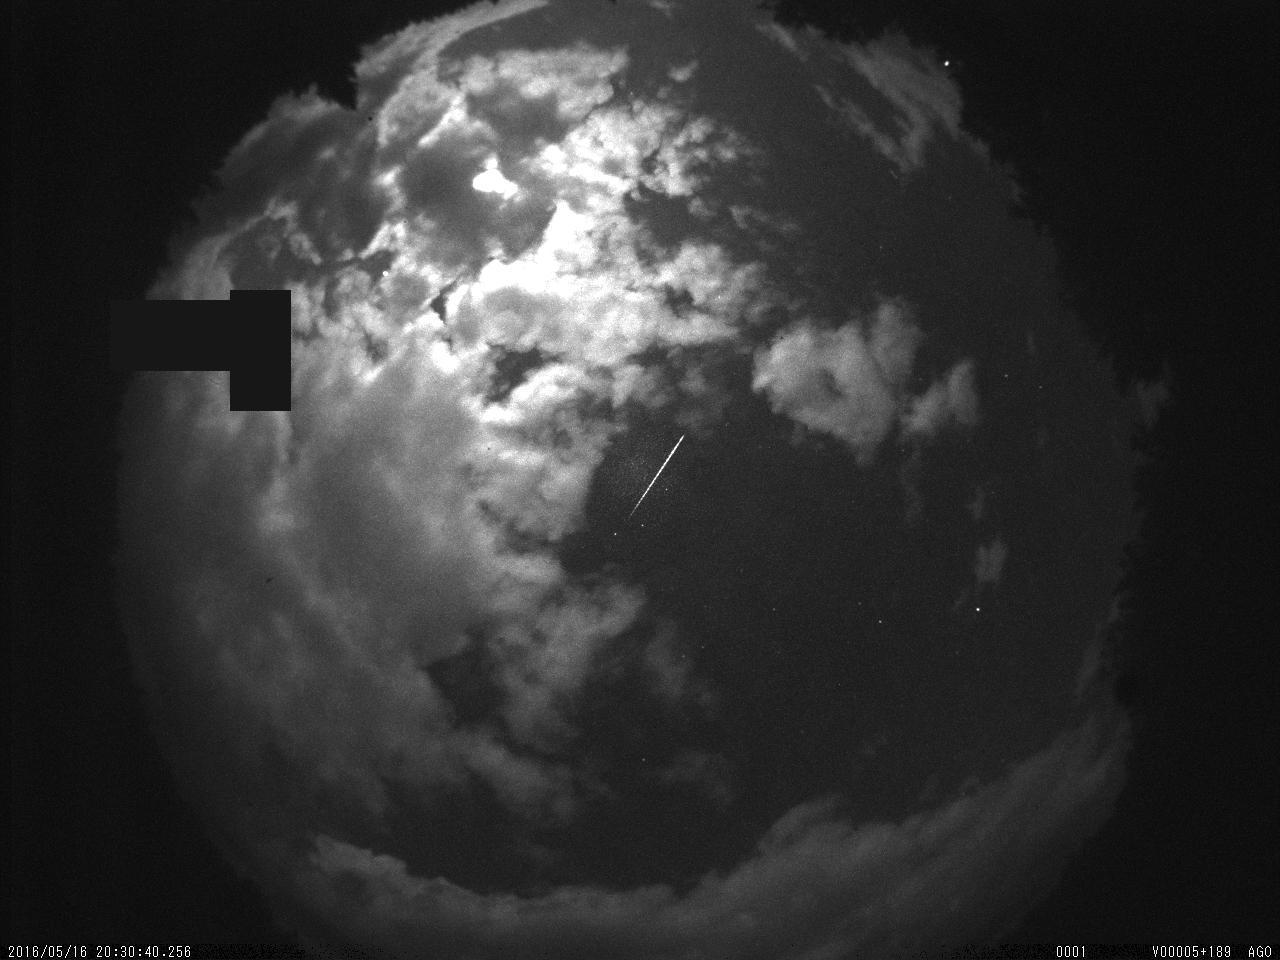meteor: (612, 419, 694, 525)
